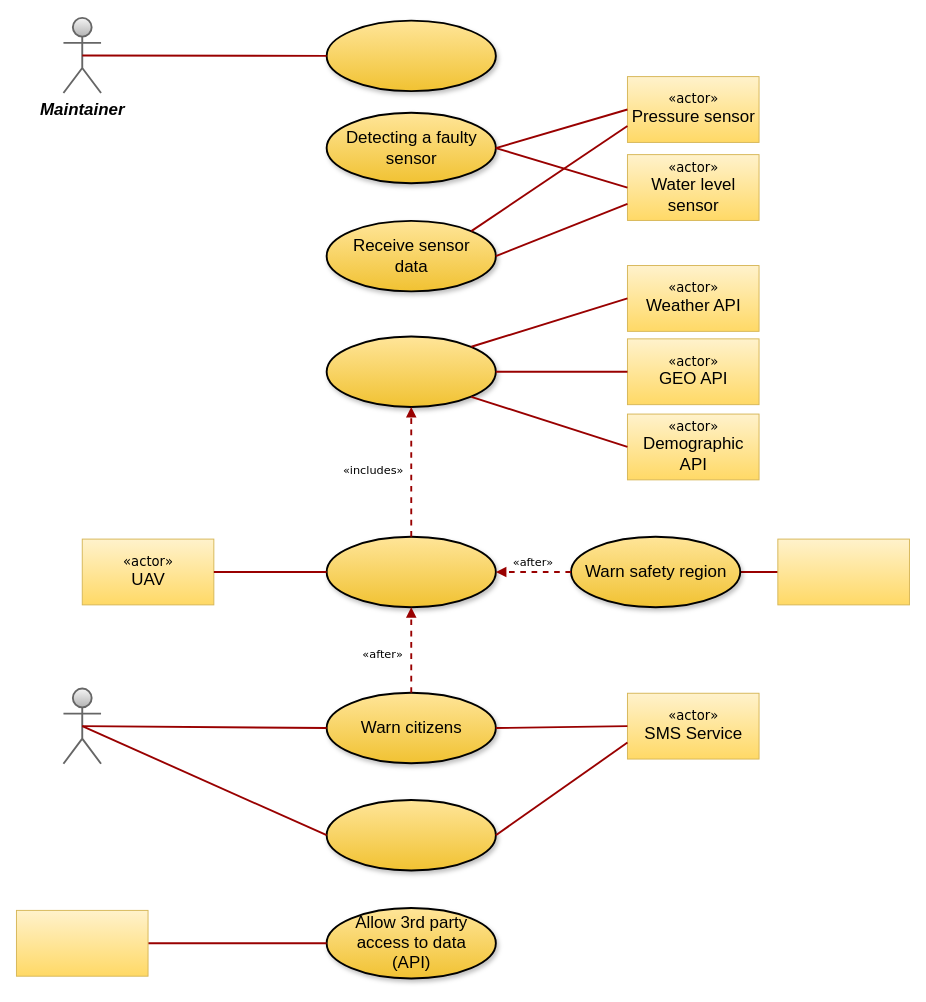
The diagram is 926 pixels wide and 1002 high, and some of its shapes have lost their labels. The shapes that lost their labels are listed below. From the top down, each one's centre as x and y in pixels, then its label:
At point 411,57: "Checking the system state".
At point 411,372: "Receive weather/ GEO/demographic data".
At point 411,573: "Determining flood probability".
At point 843,571: "«actor» Safety Region".
At point 82,725: "Citizen".
At point 411,836: "Subscribing to SMS Service".
At point 82,942: "«actor» Third Party Apps".
